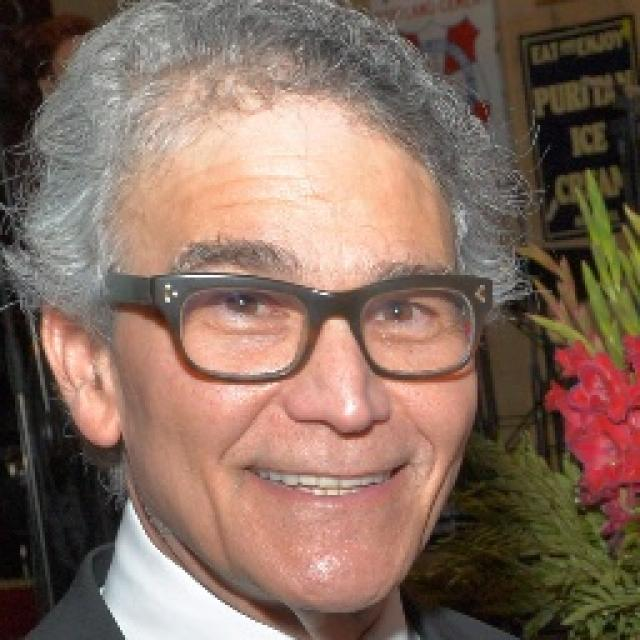earlobe: (39, 295, 123, 448)
